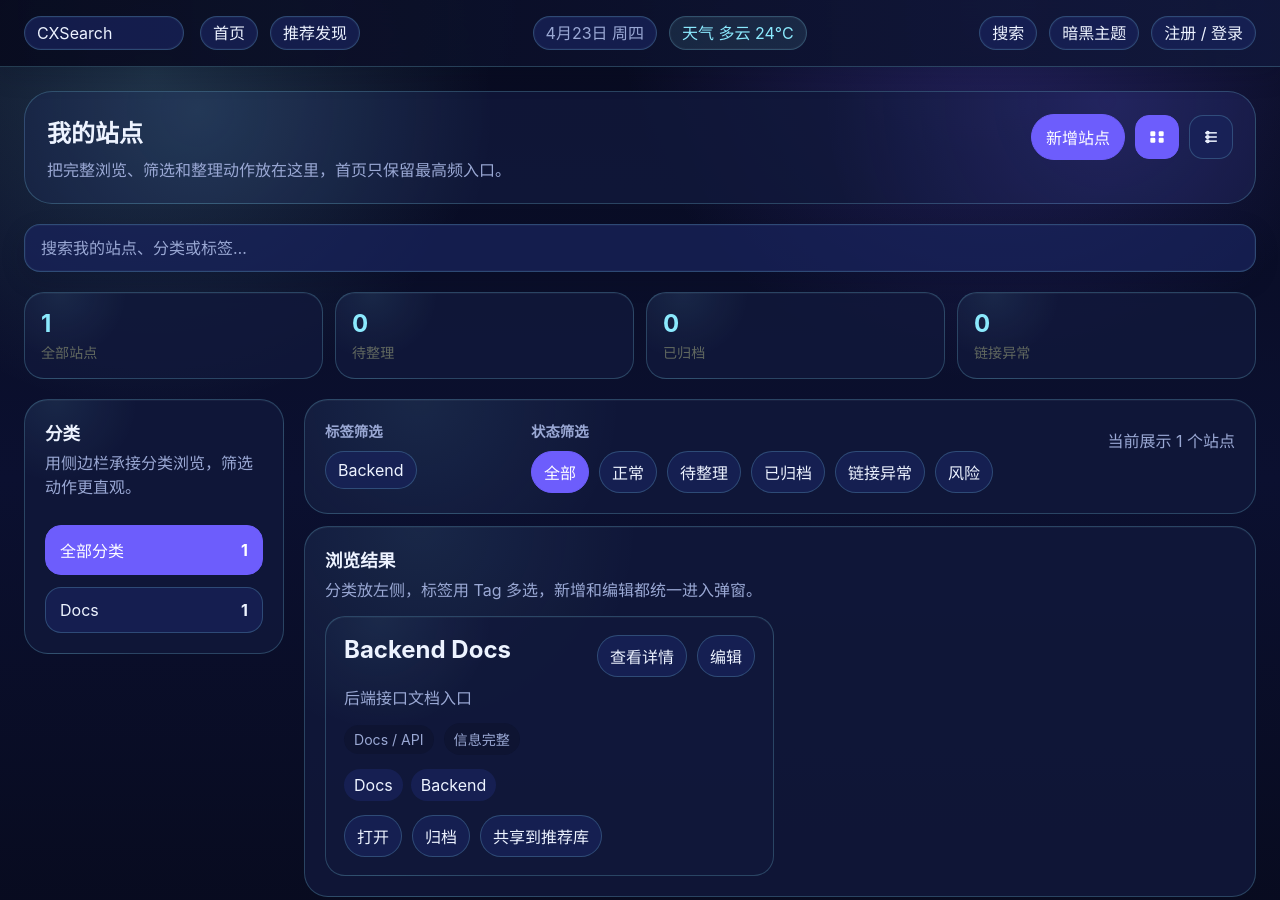
Scenario: my sites page › opens authenticated personal site details from the backend list
Expected: the heading "Backend Docs" is shown, [344,635,511,664]
Click the link "查看详情" at [642, 656], box [597,635,687,677]
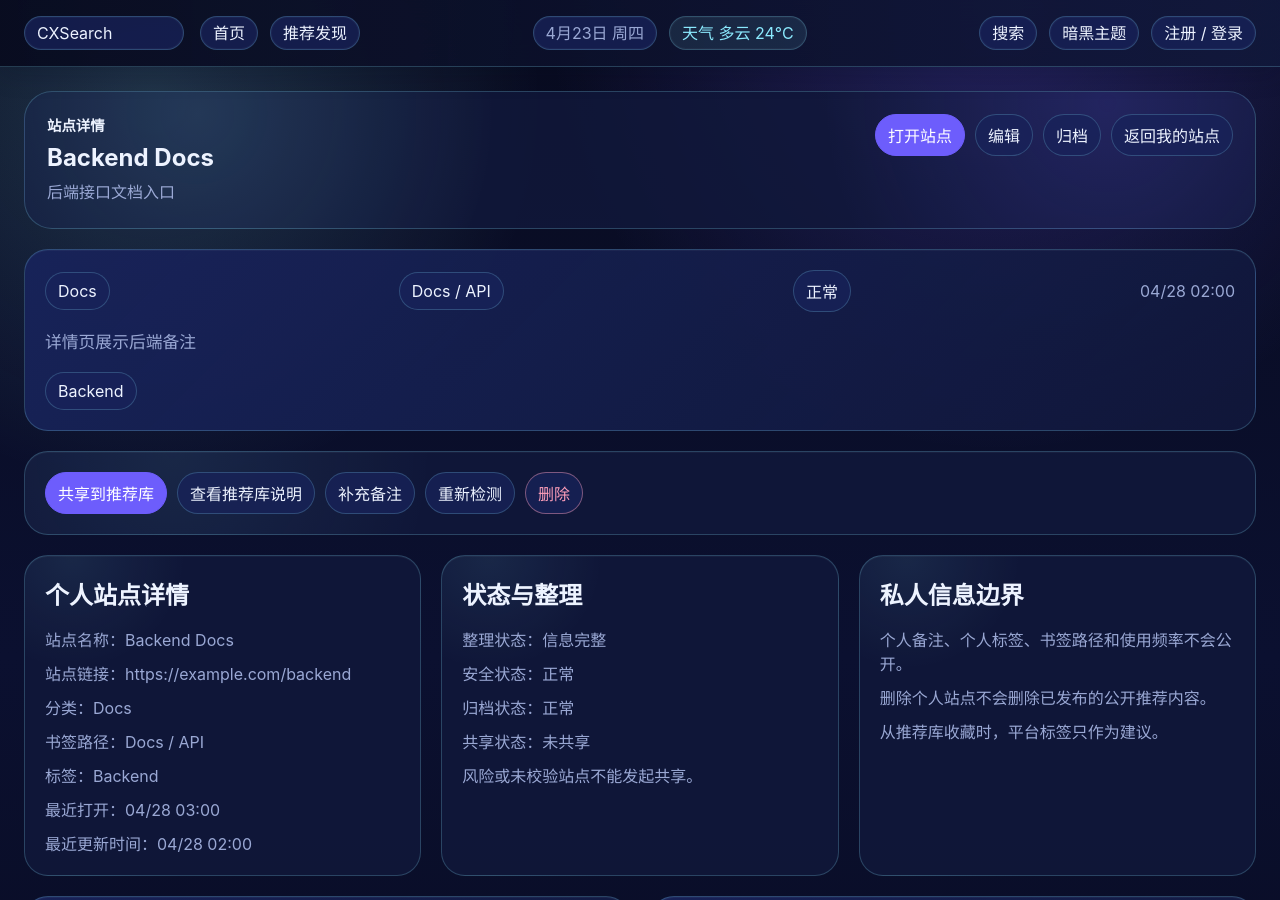
Expected: the text "详情页展示后端备注" is shown, [45,332,196,352]
Expected: the text "Docs / API" is shown, [399,272,504,310]
